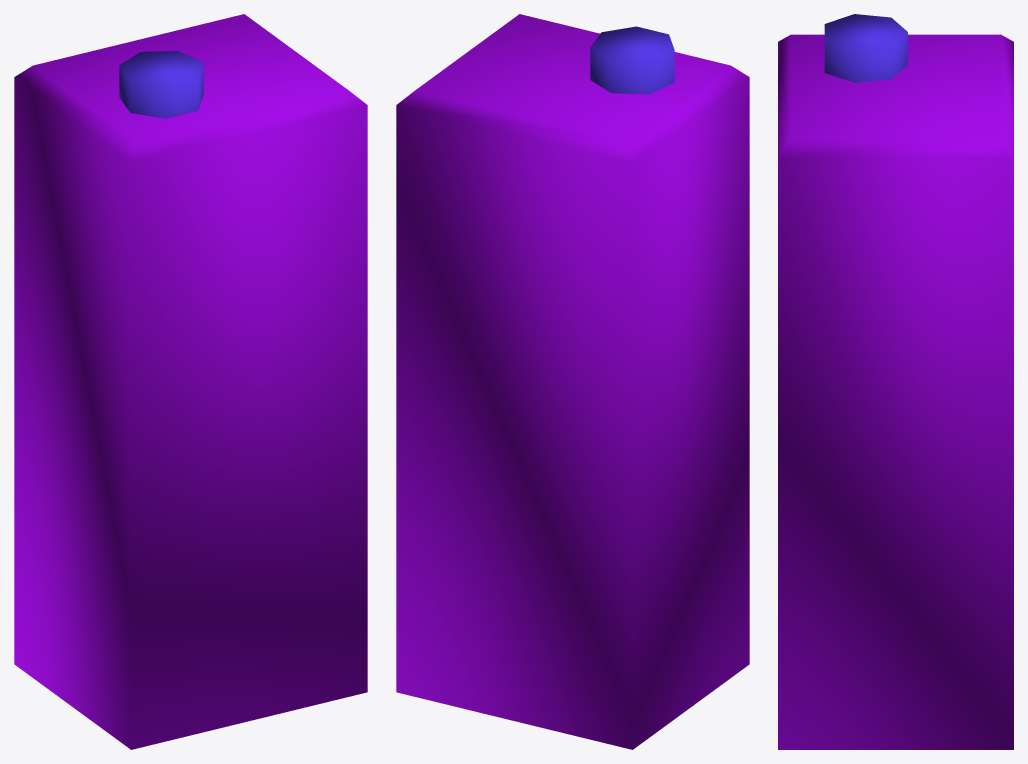
File: succo_fruttirossi.fbx
3 renders of one model, left to right at view 1: azimuth 30°, elevation 25°; view 2: azimuth 150°, elevation 25°; view 3: azimuth 270°, elevation 25°, orthographic.
Parts seen in each view (by area): view 1: rossi; view 2: rossi; view 3: rossi.
Part boxes in pixels (x1,y1,x2,y2): rossi: (14, 14, 367, 749); rossi: (396, 14, 749, 749); rossi: (778, 14, 1013, 749).
Size of the model in its own units: 82.46 by 211 by 70.7.
